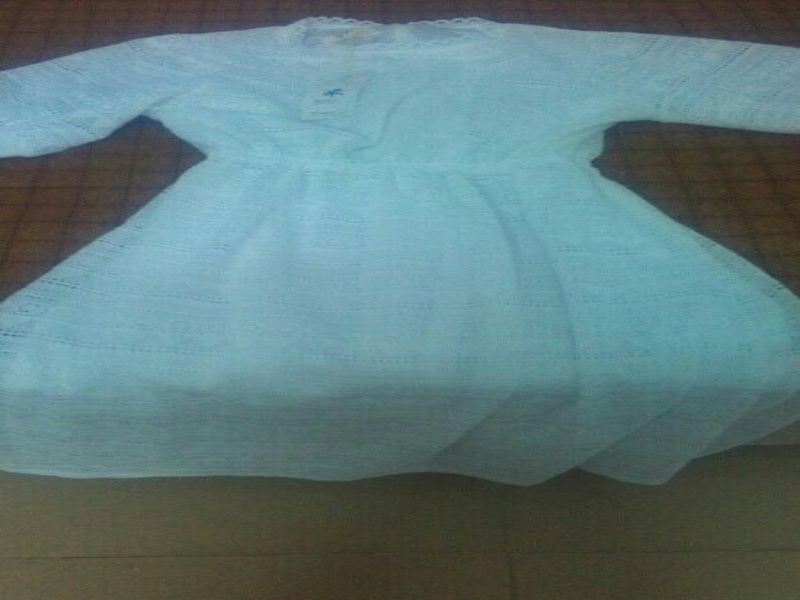short_sleeved_dress: (0, 8, 798, 495)
